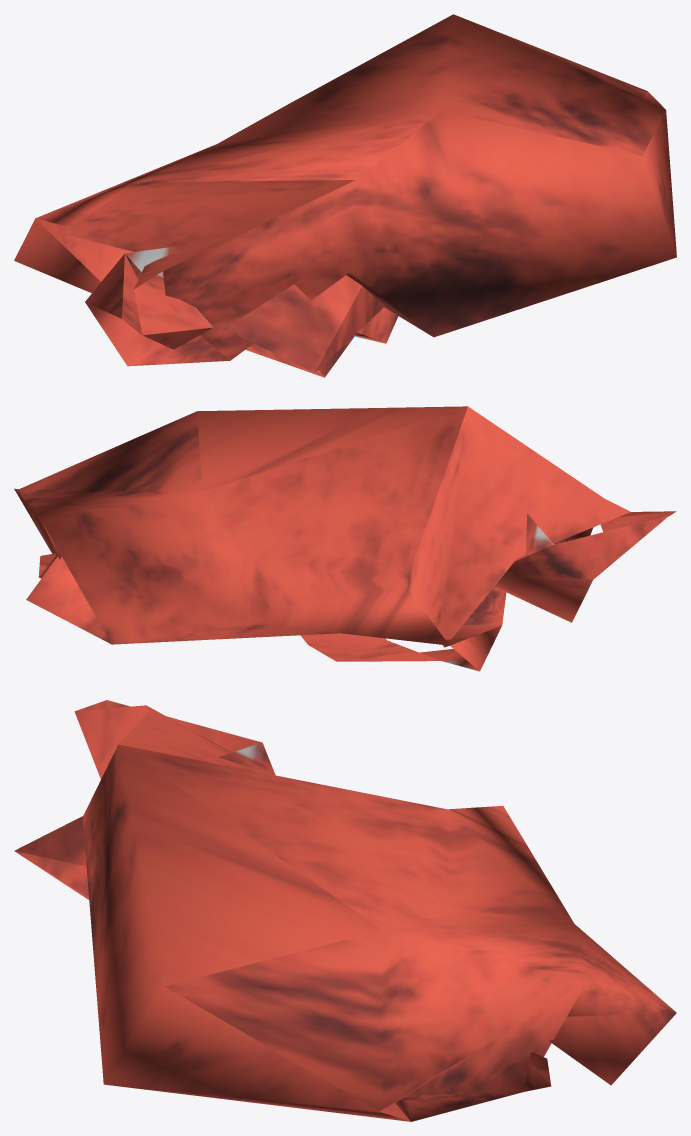
Rendered from Garbage_Plastic_Bag_03.fbx.
3 renders of one model, top to bottom at view 1: azimuth 30°, elevation 25°; view 2: azimuth 150°, elevation 25°; view 3: azimuth 270°, elevation 25°, orthographic. The views are drawn at different scales.
Visible parts, largest first — view 1: Garbage_Plastic_Bag_03; view 2: Garbage_Plastic_Bag_03; view 3: Garbage_Plastic_Bag_03.
Boxes of the visible parts, box(x1,y1,x2,y2) form: Garbage_Plastic_Bag_03: box(14, 14, 676, 377); Garbage_Plastic_Bag_03: box(14, 406, 676, 671); Garbage_Plastic_Bag_03: box(14, 700, 676, 1121).
Size of the model in its own units: 6.93 by 1.87 by 5.33.
